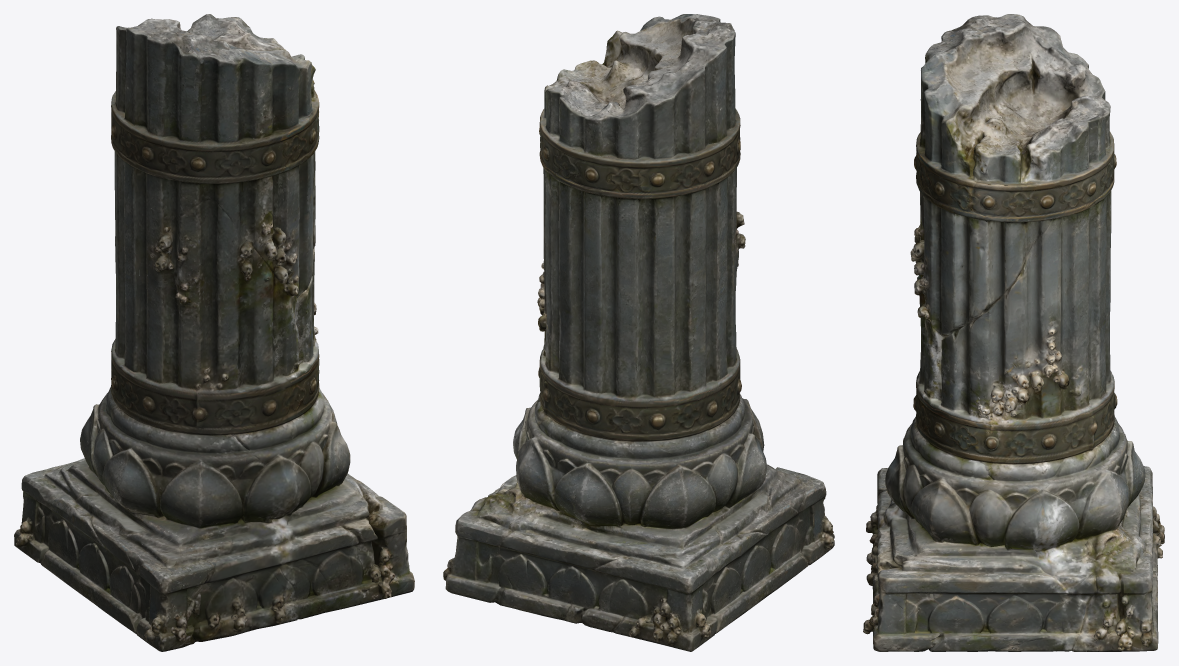
File: T17_pillar.glb
The picture shows the model from 3 angles, left to right: view 1: azimuth 30°, elevation 25°; view 2: azimuth 150°, elevation 25°; view 3: azimuth 270°, elevation 25°; orthographic projection. The views are drawn at different scales.
Visible parts, largest first — view 1: tripo_node_90b1bef0-269e-46ae-b1db-df39216d0a1a; view 2: tripo_node_90b1bef0-269e-46ae-b1db-df39216d0a1a; view 3: tripo_node_90b1bef0-269e-46ae-b1db-df39216d0a1a.
Boxes of the visible parts, x1,y1,x2,y2 form: tripo_node_90b1bef0-269e-46ae-b1db-df39216d0a1a: (14, 14, 414, 651); tripo_node_90b1bef0-269e-46ae-b1db-df39216d0a1a: (443, 14, 834, 651); tripo_node_90b1bef0-269e-46ae-b1db-df39216d0a1a: (863, 14, 1164, 651).
Size of the model in its own units: 0.4926 by 0.9791 by 0.4923.
1 material, 1 textured.
